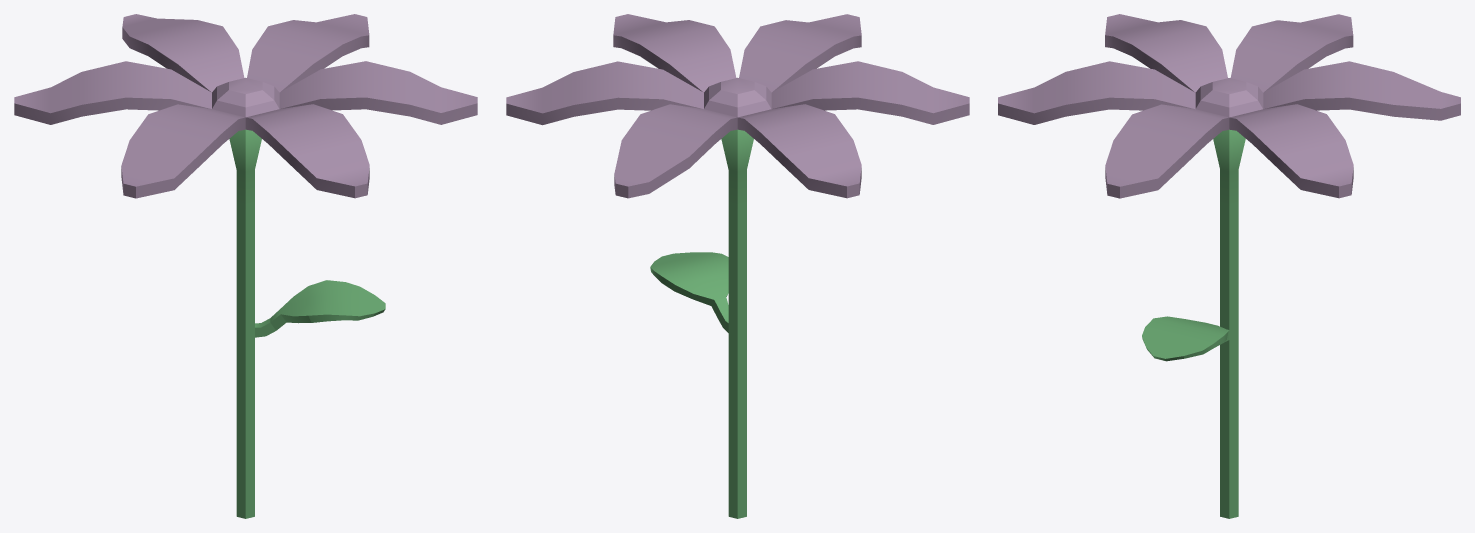
The model's file is flowerGrow2.fbx.
The picture shows the model from 3 angles, left to right: view 1: azimuth 30°, elevation 25°; view 2: azimuth 150°, elevation 25°; view 3: azimuth 270°, elevation 25°; orthographic projection.
Visible parts, largest first — view 1: base; view 2: base; view 3: base.
Boxes of the visible parts, x1,y1,x2,y2 form: base: (14,14,477,518); base: (506,14,969,518); base: (998,14,1460,518).
Size of the model in its own units: 5.41 by 6.35 by 6.13.
